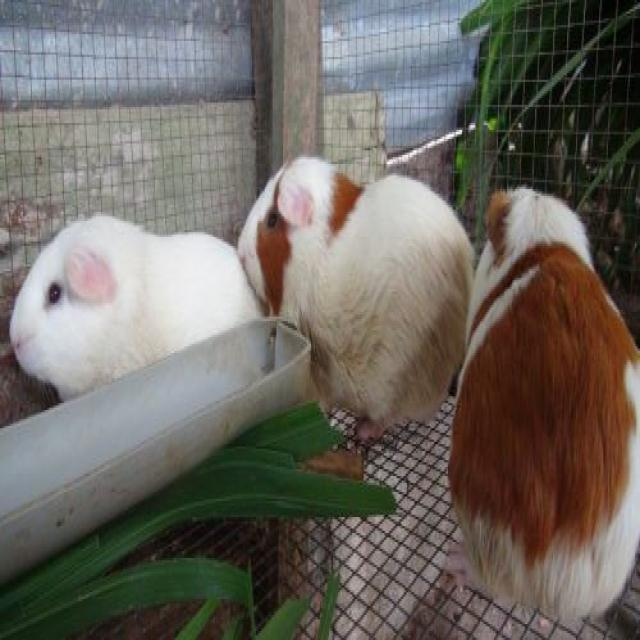guinea pig: (441, 128, 640, 627), (238, 141, 474, 450), (8, 209, 267, 403)
